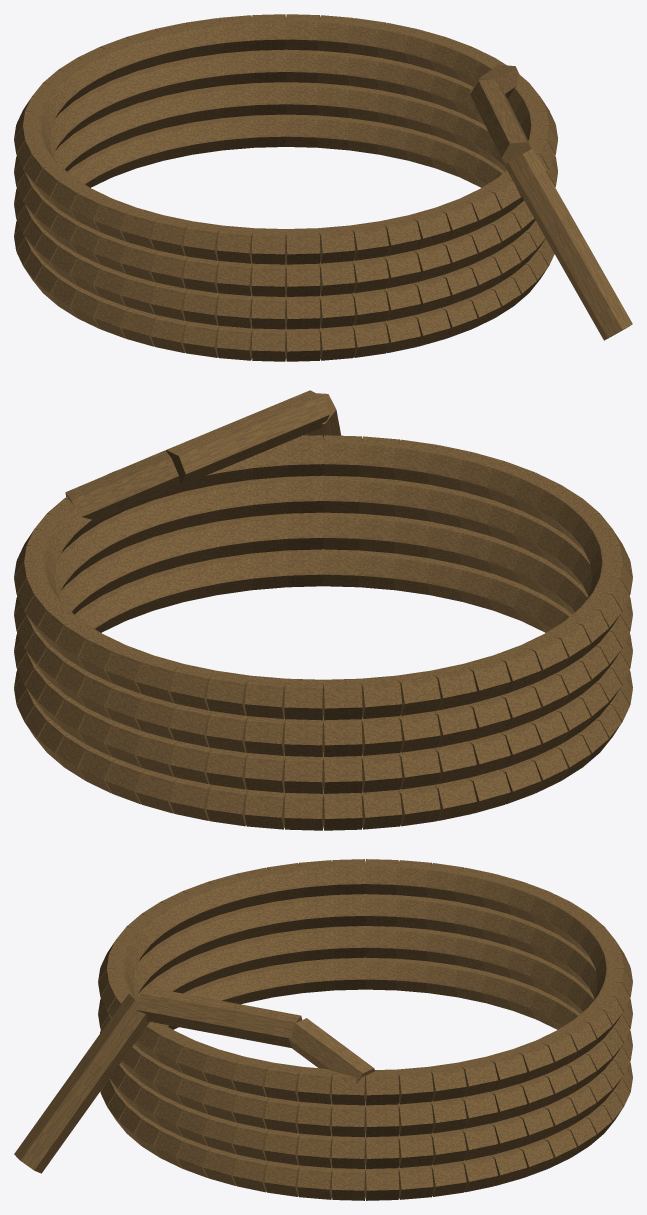
File: SM_rope_coil.gltf
3 views of the same model, one above another, from view 1: azimuth 30°, elevation 25°; view 2: azimuth 150°, elevation 25°; view 3: azimuth 270°, elevation 25° (orthographic). The views are drawn at different scales.
Visible parts, largest first — view 1: root; view 2: root; view 3: root.
Part boxes in pixels (x1,y1,x2,y2): root: (14,14,632,361); root: (14,390,632,830); root: (14,859,632,1200).
Bounding box in the file's own units: 0.7919 × 0.2652 × 0.9163.
1 material, 1 textured.
